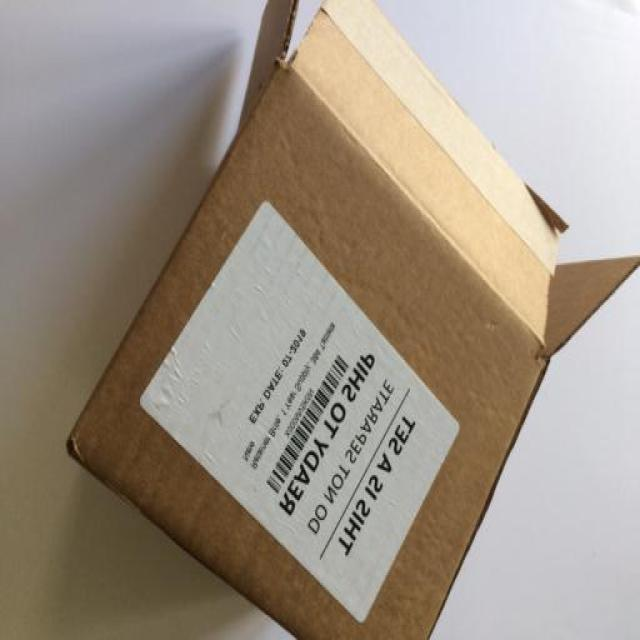cardboard: (65, 0, 640, 640)
